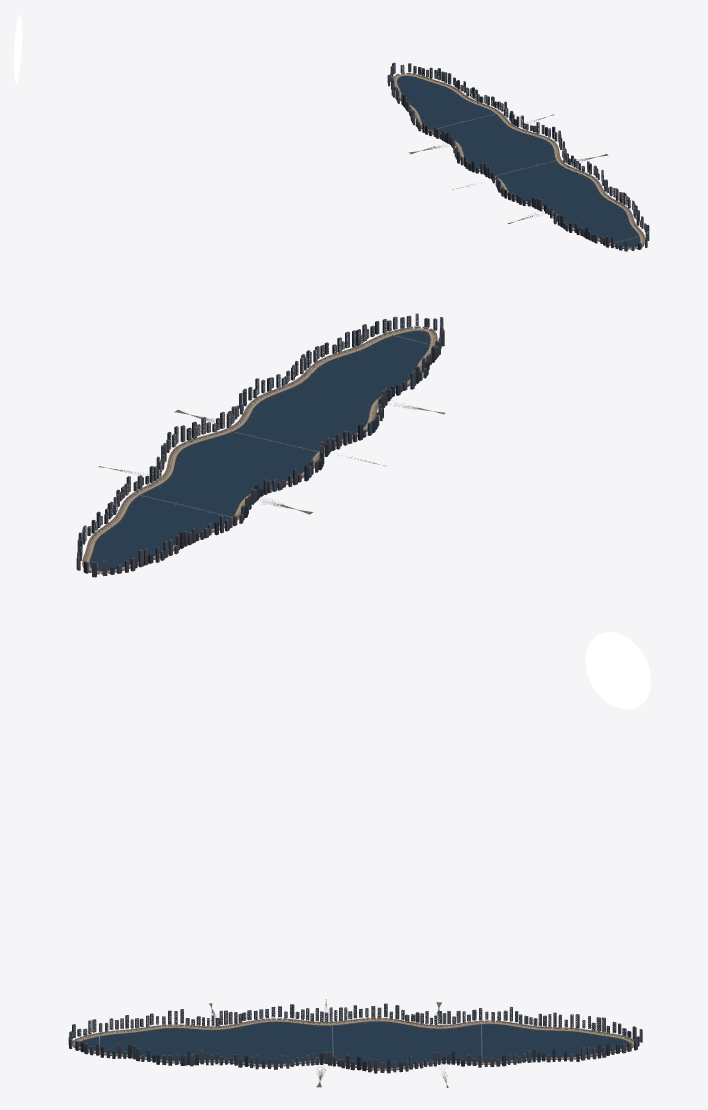
The model's file is dubai.glb.
The picture shows the model from 3 angles, top to bottom: view 1: azimuth 30°, elevation 25°; view 2: azimuth 150°, elevation 25°; view 3: azimuth 270°, elevation 25°; orthographic projection. The views are drawn at different scales.
Visible parts, largest first — view 1: Sea, Land_002, Land_001, Land_003, Land_006, Land_008, Land_007, Land_005, Land_004, Land_000, Sun; view 2: Sea, Land_008, Land_001, Land_002, Land_003, Land_004, Land_006, Land_005, Land_000, Land_007; view 3: Sea, Sun, Land_006, Land_005, Land_004, Land_007, Land_003, Land_001, Land_008, Land_002, Land_000.
Part boxes in pixels (x1=…): Sea: x1=397, y1=76, x2=640, y2=247; Land_002: x1=451, y1=81, x2=553, y2=130; Land_001: x1=515, y1=115, x2=608, y2=168; Land_003: x1=387, y1=62, x2=459, y2=93; Land_006: x1=452, y1=166, x2=553, y2=224; Land_008: x1=618, y1=196, x2=649, y2=251; Land_007: x1=548, y1=208, x2=625, y2=250; Land_005: x1=409, y1=128, x2=487, y2=177; Land_004: x1=391, y1=84, x2=463, y2=136; Land_000: x1=567, y1=158, x2=626, y2=205; Sun: x1=14, y1=14, x2=22, y2=83; Sea: x1=89, y1=331, x2=430, y2=571; Land_008: x1=310, y1=313, x2=443, y2=367; Land_001: x1=157, y1=406, x2=274, y2=474; Land_002: x1=95, y1=458, x2=185, y2=534; Land_003: x1=76, y1=519, x2=153, y2=577; Land_004: x1=153, y1=496, x2=250, y2=562; Land_006: x1=274, y1=388, x2=445, y2=466; Land_005: x1=235, y1=441, x2=328, y2=514; Land_000: x1=235, y1=358, x2=316, y2=420; Land_007: x1=380, y1=326, x2=444, y2=396; Sea: x1=79, y1=1022, x2=628, y2=1068; Sun: x1=585, y1=632, x2=651, y2=709; Land_006: x1=205, y1=999, x2=334, y2=1042; Land_005: x1=334, y1=1002, x2=462, y2=1029; Land_004: x1=461, y1=1006, x2=590, y2=1042; Land_007: x1=77, y1=1009, x2=207, y2=1043; Land_003: x1=562, y1=1017, x2=642, y2=1061; Land_001: x1=309, y1=1042, x2=436, y2=1087; Land_008: x1=68, y1=1024, x2=184, y2=1065; Land_002: x1=432, y1=1043, x2=562, y2=1087; Land_000: x1=189, y1=1054, x2=309, y2=1069.
Size of what is drawn, in the model's own units: 4925 by 1496 by 4943.
